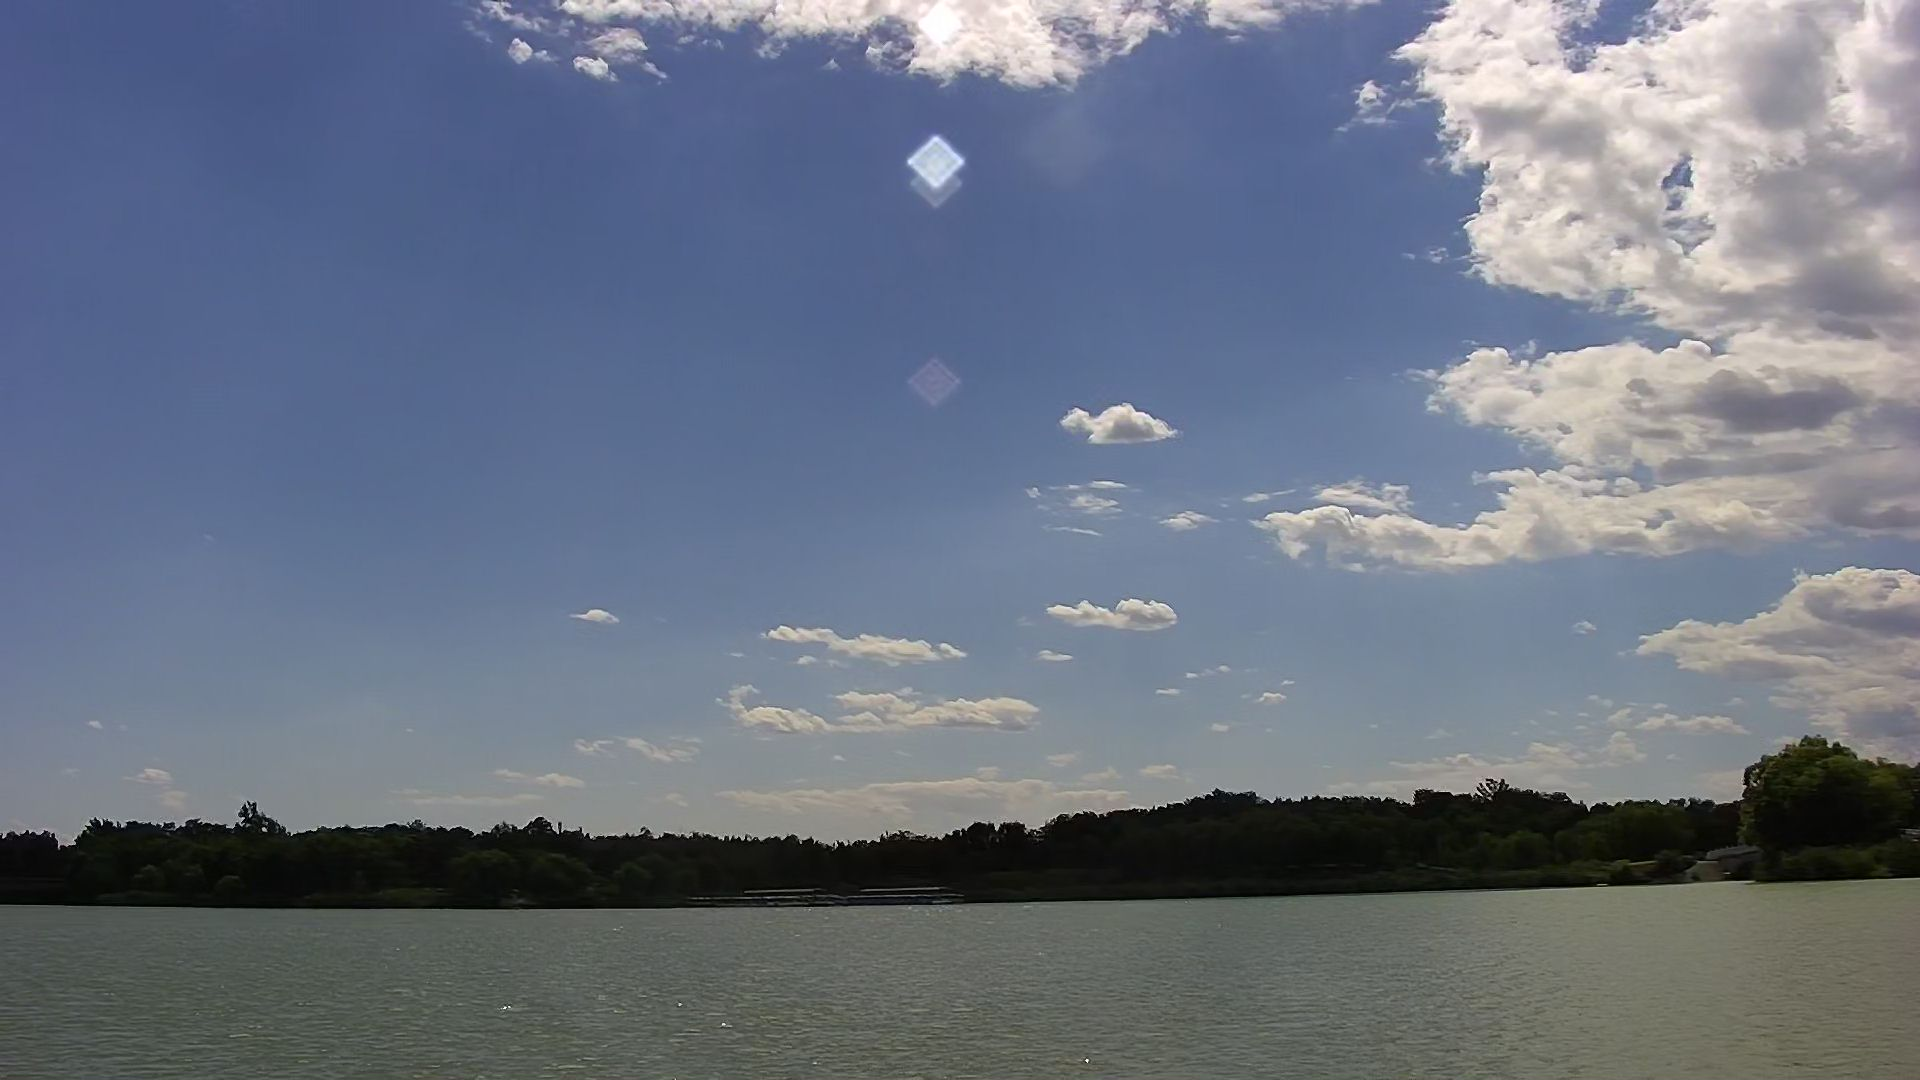harbor: (746, 884, 947, 909)
